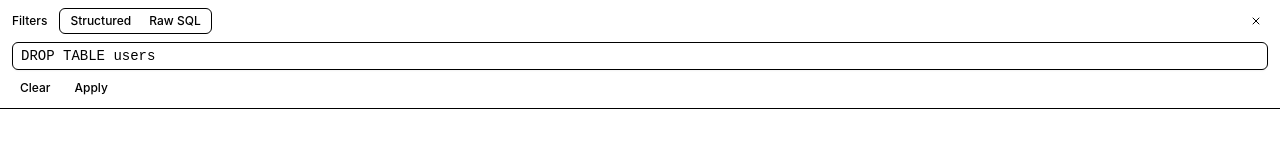
Test case: FilterBar › shows error when Apply is clicked with dangerous SQL
The width and height of the screenshot is (1280, 160).
Step 1. Click the button "Apply" → click(91, 88), box top-left (66, 76), bottom-right (116, 100)
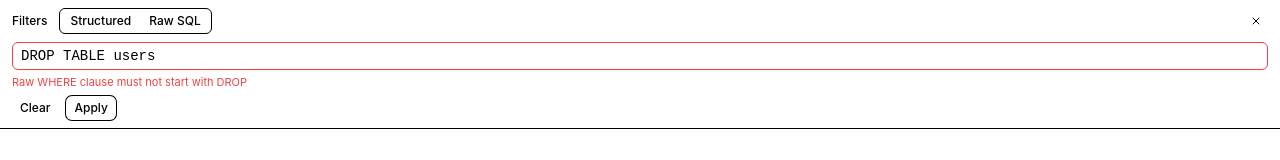
Result: the text "Raw WHERE clause must not start with DROP" is shown at top-left (12, 75), bottom-right (247, 89)
